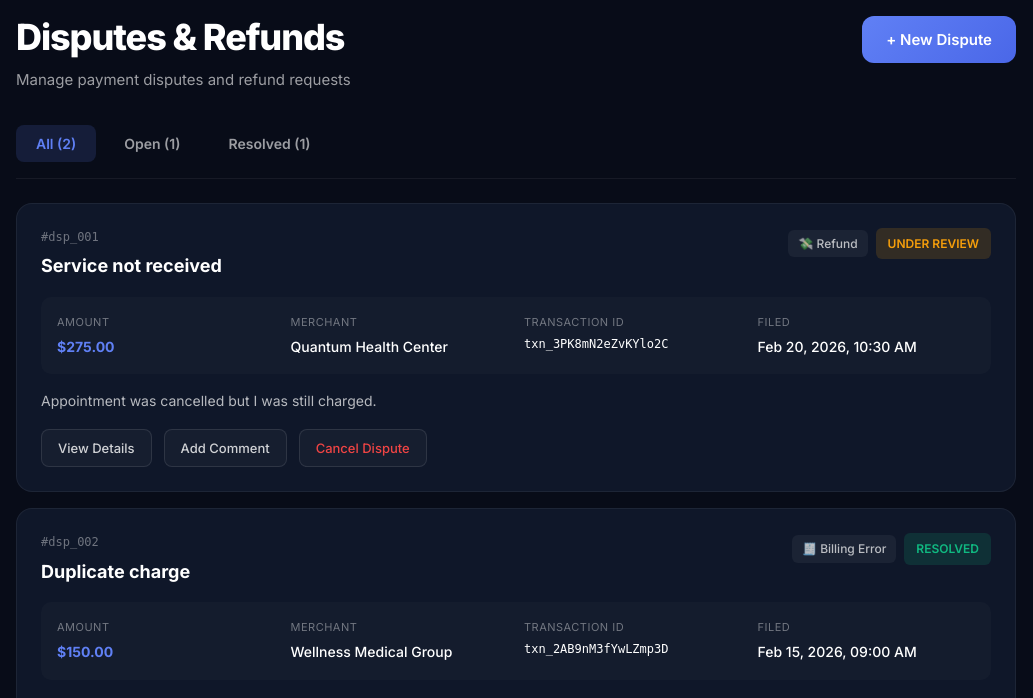
Test: Disputes › tabs › filters to resolved disputes
What coordinates should you click on to do the following:
click the button "Resolved (1)"
I would click on:
 (270, 143)
Its box is [208,125,331,162].
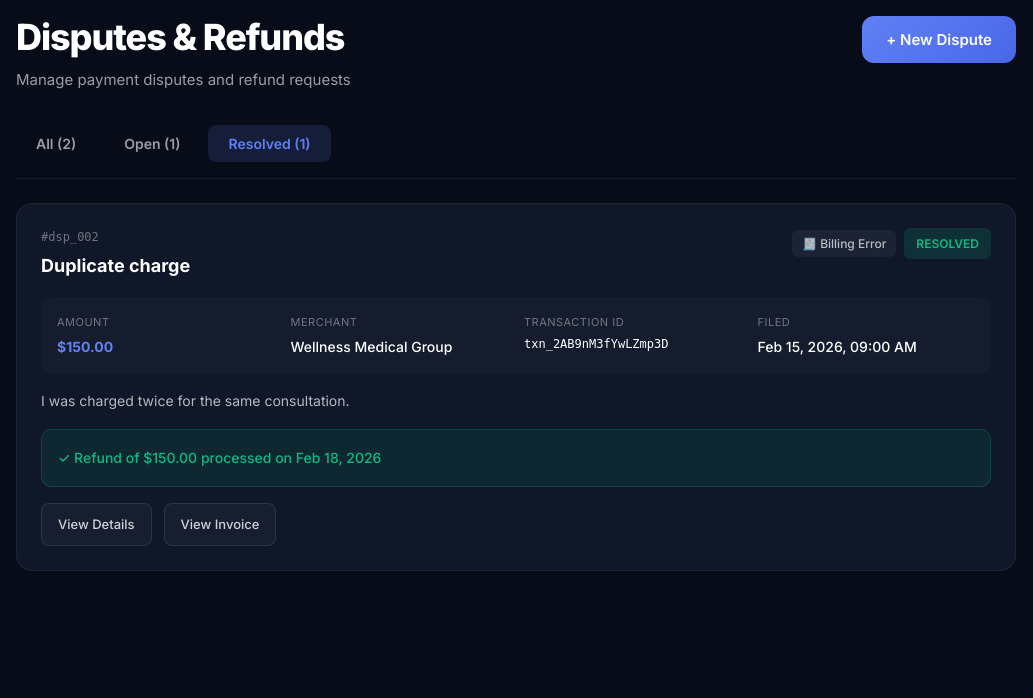
Expected: the text "Duplicate charge" is shown, [41,252,190,281]
Expected: the text "Service not received" is gone
